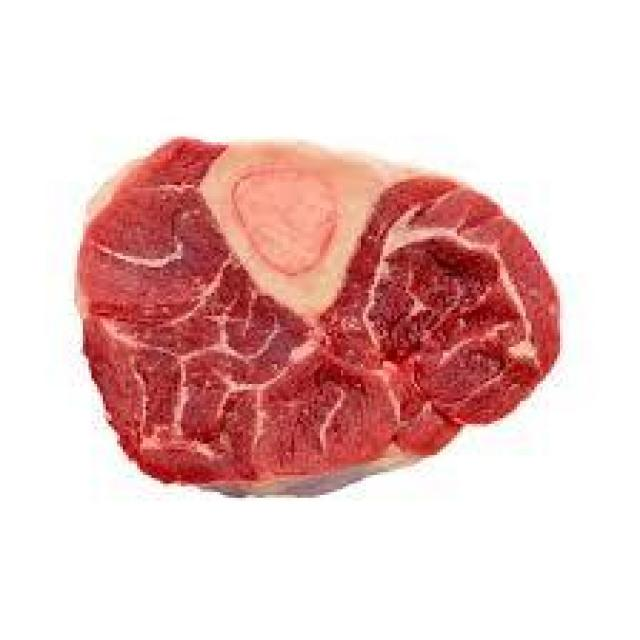beef: (60, 112, 566, 535)
